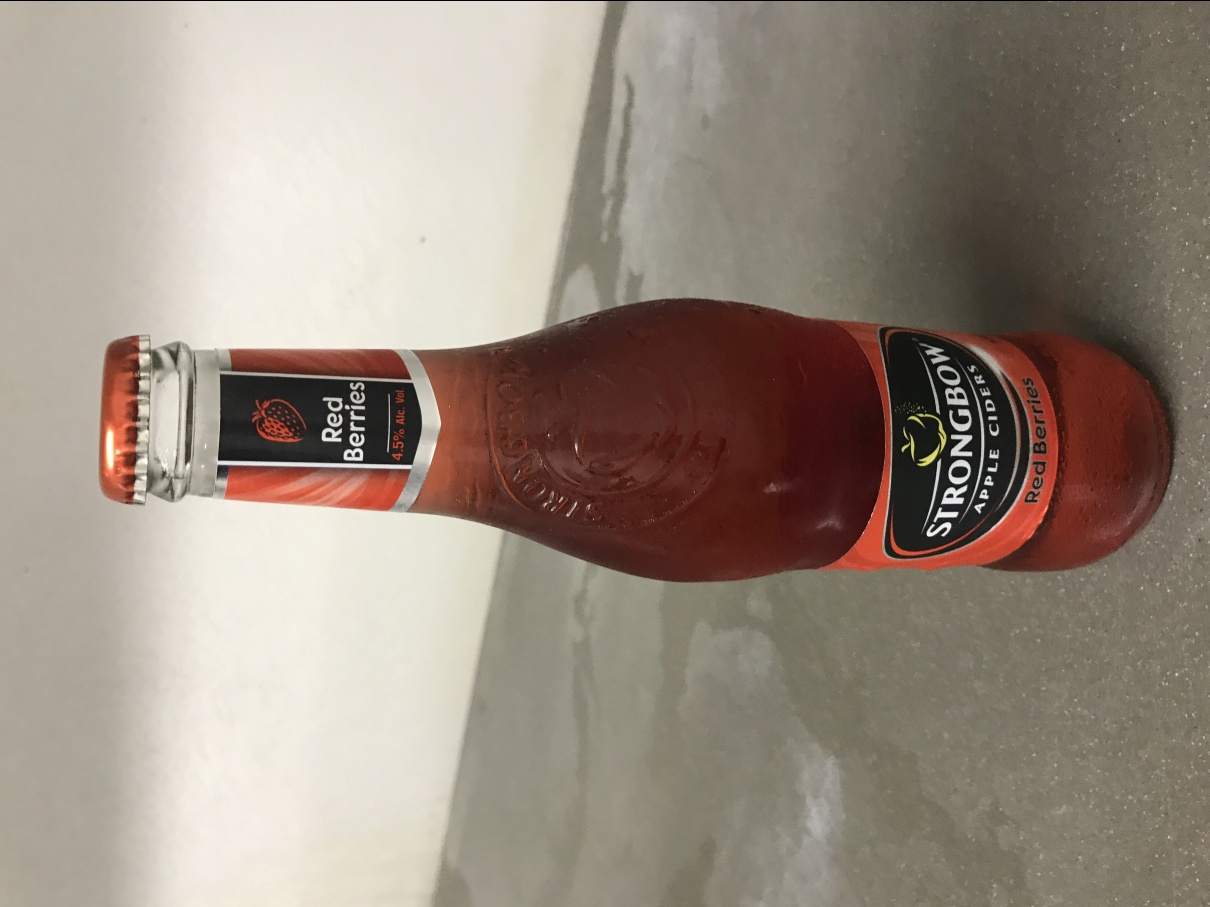strongbowR: (93, 287, 1177, 584)
